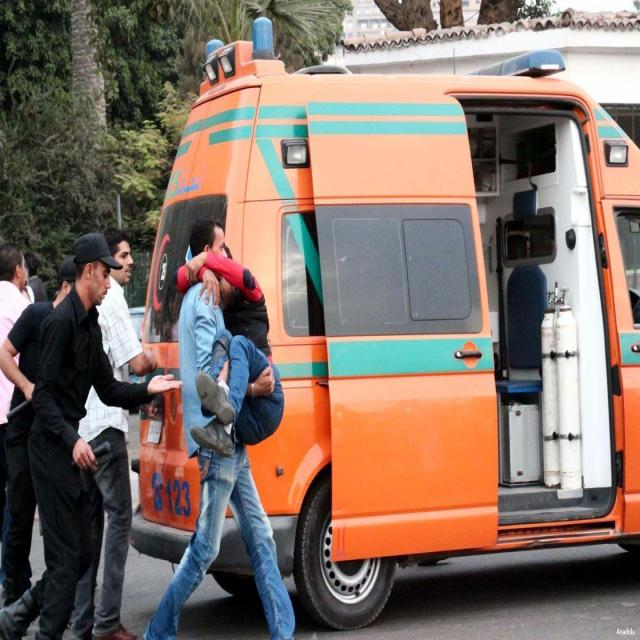Ambulance: (127, 16, 638, 632)
person: (0, 230, 180, 640), (141, 217, 296, 639), (173, 215, 282, 458)
